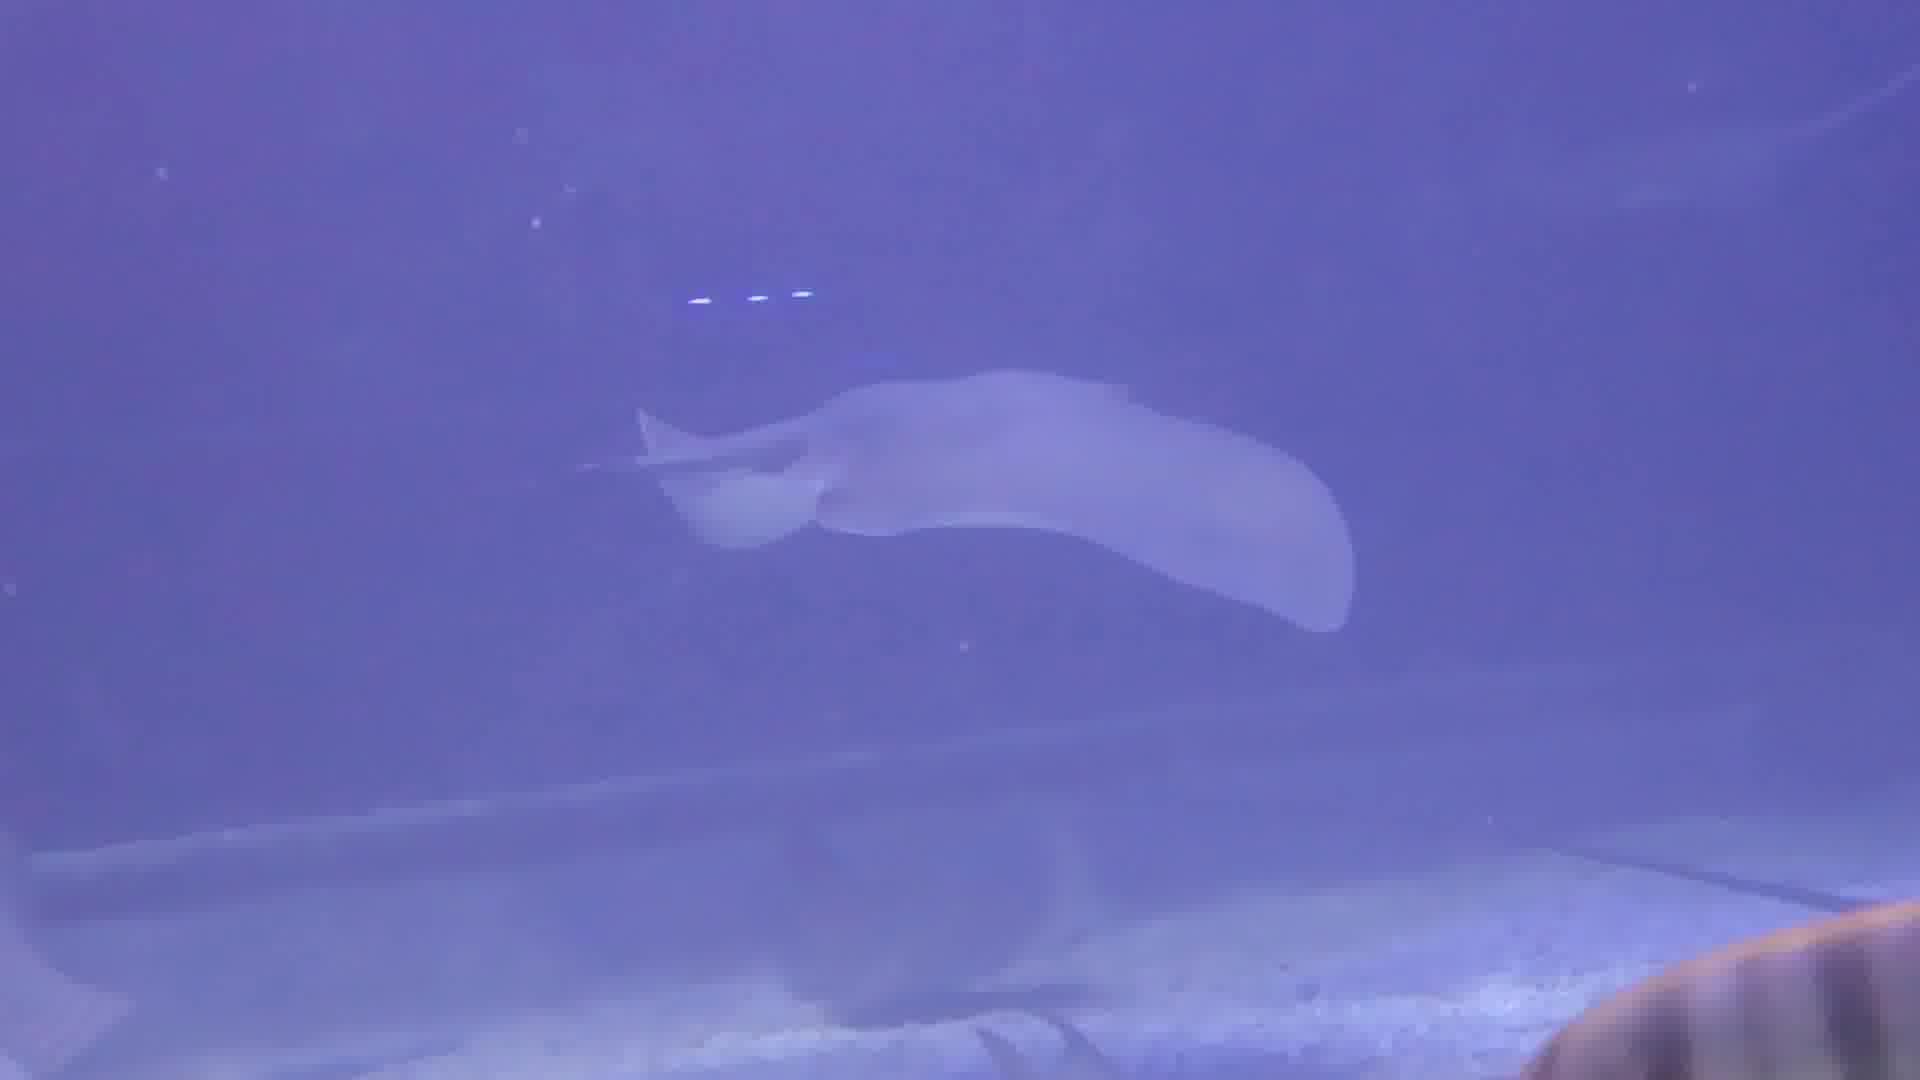Dasyatis akajei: (545, 236, 1555, 707)
